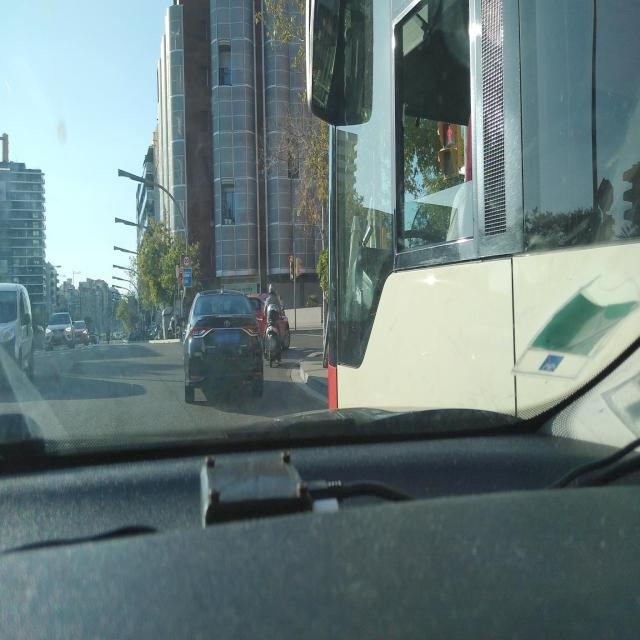bike: (264, 308, 282, 369), (168, 313, 184, 339), (105, 332, 112, 344)
car: (182, 288, 265, 405), (0, 281, 35, 388), (244, 288, 288, 361), (44, 312, 75, 351), (73, 319, 89, 346), (86, 325, 100, 345)
